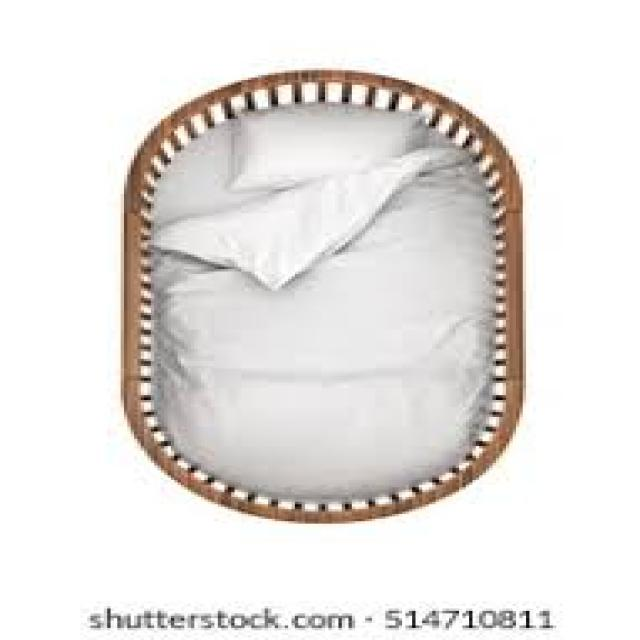crib: (117, 66, 526, 524)
